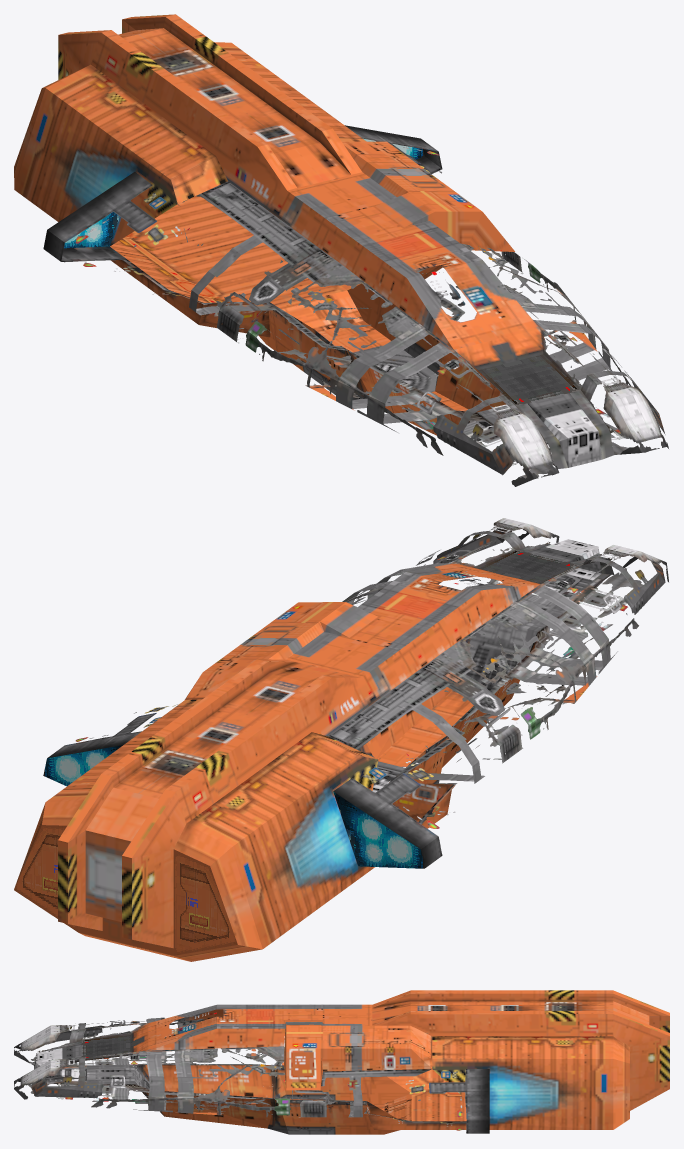
The picture shows the model from 3 angles, top to bottom: view 1: azimuth 30°, elevation 25°; view 2: azimuth 150°, elevation 25°; view 3: azimuth 270°, elevation 25°; orthographic projection. The views are drawn at different scales.
Parts seen in each view (by area): view 1: FrontUV, LeftoverUV, Badge0_MAT, BurnerUV; view 2: LeftoverUV, FrontUV, RearPlate, BurnerUV, Badge0_MAT; view 3: LeftoverUV, FrontUV, Badge0_MAT.
Part boxes in pixels (x1,y1,x2,y2): FrontUV: (178,141,668,486); LeftoverUV: (14,14,453,349); Badge0_MAT: (478,354,580,405); BurnerUV: (64,138,424,248); LeftoverUV: (14,584,539,961); FrontUV: (185,518,668,792); RearPlate: (14,825,237,955); BurnerUV: (43,745,424,868); Badge0_MAT: (479,550,578,583); LeftoverUV: (149,990,669,1133); FrontUV: (14,1004,432,1134); Badge0_MAT: (81,1035,130,1060).
Bounding box in the file's own units: 23.69 × 10.69 × 54.4.
